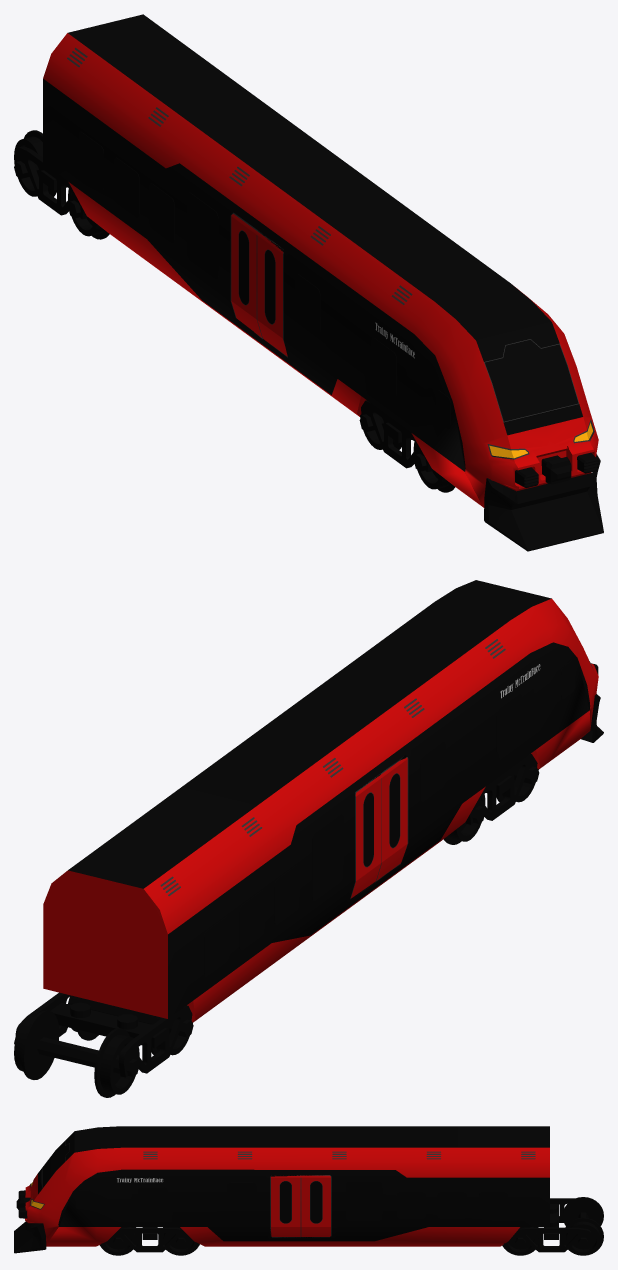
3 views of the same model, one above another, from view 1: azimuth 30°, elevation 25°; view 2: azimuth 150°, elevation 25°; view 3: azimuth 270°, elevation 25° (orthographic). The views are drawn at different scales.
Parts seen in each view (by area): view 1: Box009, Line004, Line005, Box012; view 2: Box009, Line004, Circle015, Circle014, Rectangle004, Line005, NGon009, NGon008; view 3: Box009, Line004, Circle015, Line005, Circle014, Circle020, Circle016, Circle018, Circle021, Circle017, Circle019, Rectangle004.
Boxes of the visible parts, x1,y1,x2,y2 form: Box009: (43,14,603,551); Line004: (15,146,87,219); Line005: (361,400,432,472); Box012: (541,455,571,484); Box009: (43,580,603,1022); Line004: (15,992,192,1077); Circle015: (21,1010,129,1097); Circle014: (14,1013,139,1094); Rectangle004: (50,1003,167,1048); Line005: (465,753,537,824); NGon009: (14,1037,139,1076); NGon008: (68,996,193,1037); Box009: (14,1126,549,1253); Line004: (512,1198,591,1252); Circle015: (562,1197,603,1255); Line005: (110,1227,189,1252); Circle014: (566,1221,600,1255); Circle020: (163,1227,197,1255); Circle016: (504,1227,537,1255); Circle018: (101,1227,135,1255); Circle021: (162,1227,199,1255); Circle017: (502,1227,538,1255); Circle019: (99,1227,137,1255); Rectangle004: (544,1204,558,1239).
Bounding box in the file's own units: 1.77 × 2.52 × 12.44.
